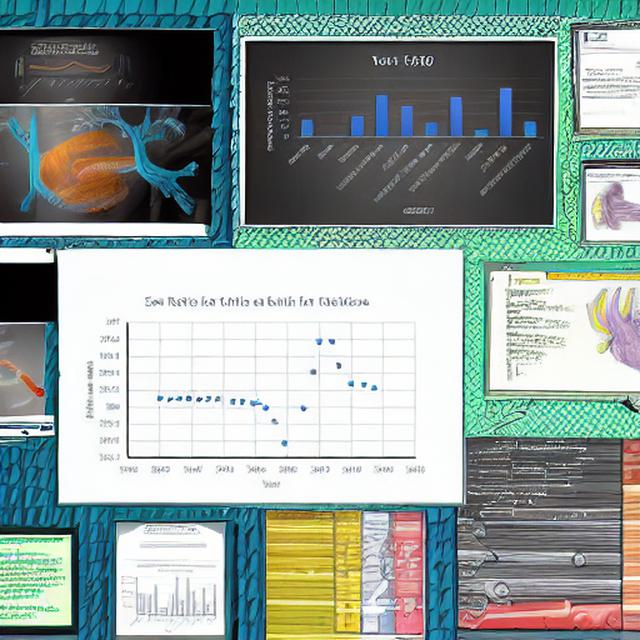Graph: (72, 285, 433, 500), (255, 46, 552, 225), (118, 563, 220, 634), (13, 43, 117, 104)
